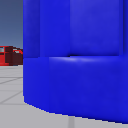blue_basket: (24, 1, 128, 124)
red_basket: (1, 46, 24, 66)
